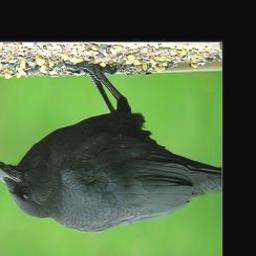Crow: (0, 57, 222, 232)
